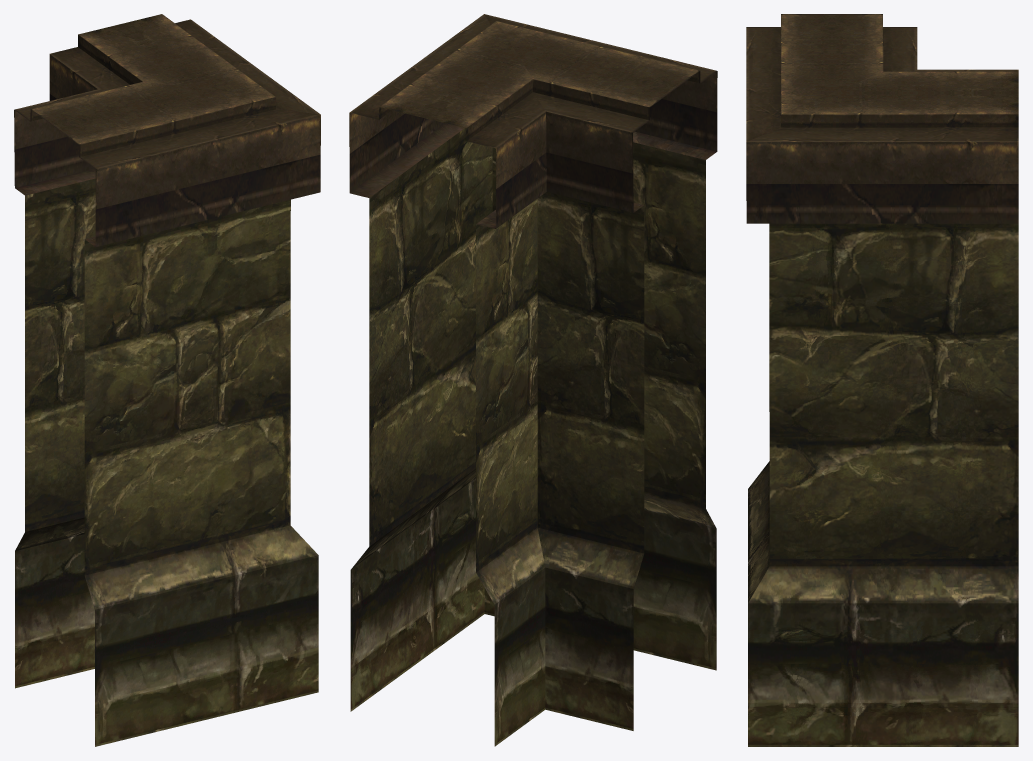
The model's file is Stage001_WALL_07.FBX.
3 views of the same model, side by side, from view 1: azimuth 30°, elevation 25°; view 2: azimuth 150°, elevation 25°; view 3: azimuth 270°, elevation 25° (orthographic). The views are drawn at different scales.
Visible parts, largest first — view 1: Stage001_WALL_07; view 2: Stage001_WALL_07; view 3: Stage001_WALL_07.
Part boxes in pixels (bbox=[...]): Stage001_WALL_07: bbox=[14, 14, 320, 746]; Stage001_WALL_07: bbox=[349, 14, 717, 746]; Stage001_WALL_07: bbox=[746, 14, 1018, 746].
Size of the model in its own units: 273 by 685 by 273.
Materials: 1 (1 with a texture image).
